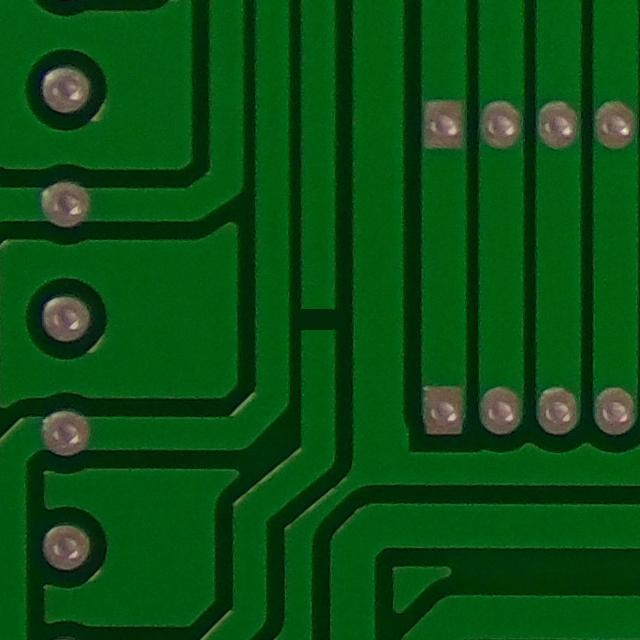open_circuit: (293, 297, 348, 344)
